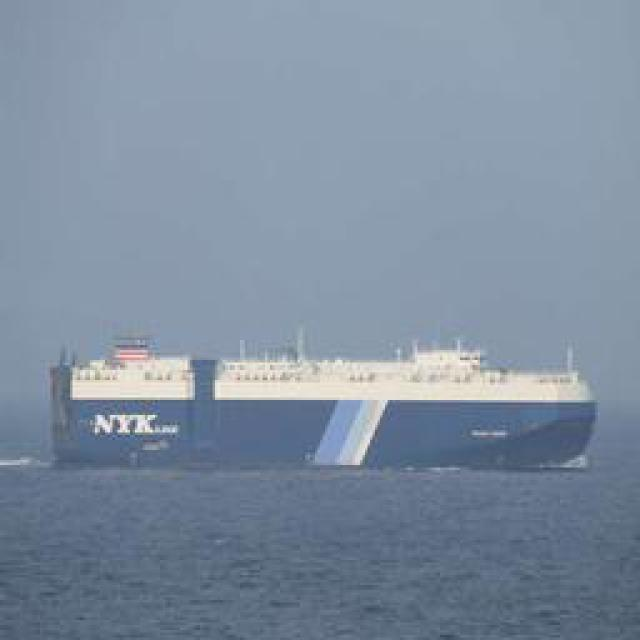Ship: (63, 340, 591, 473)
